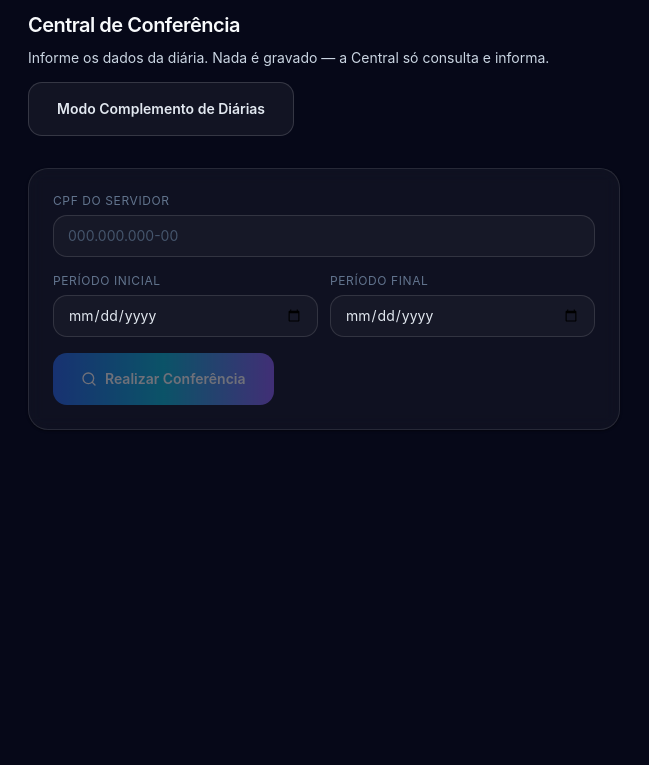
Test: Conferencia — portão da Etapa 2 › veredito REVISAR nunca revela a Etapa 2
Type "12345678901" into the field labelled "CPF do servidor" at (324, 236), box top-left (53, 215), bottom-right (595, 257)
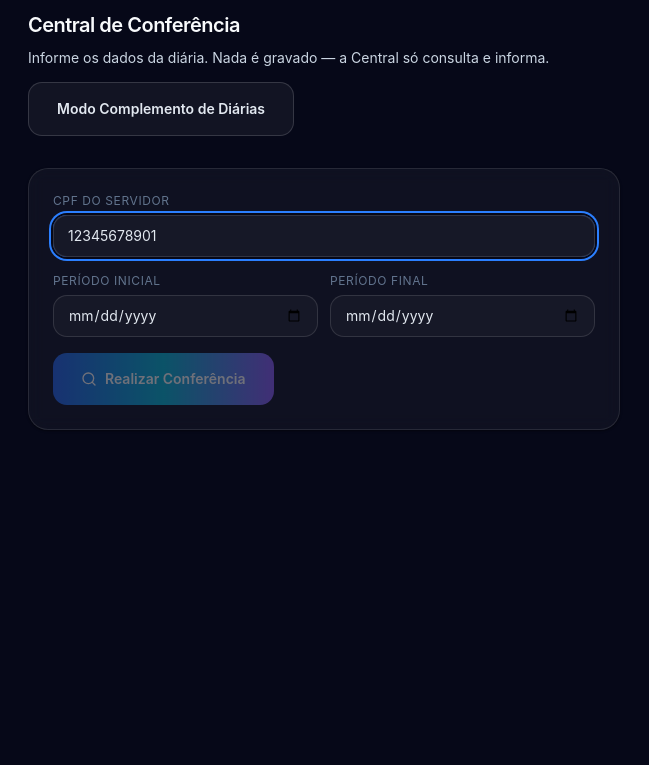
Type "2026-07-21" into the date field labelled "Período inicial" at (186, 316), box top-left (53, 295), bottom-right (318, 337)
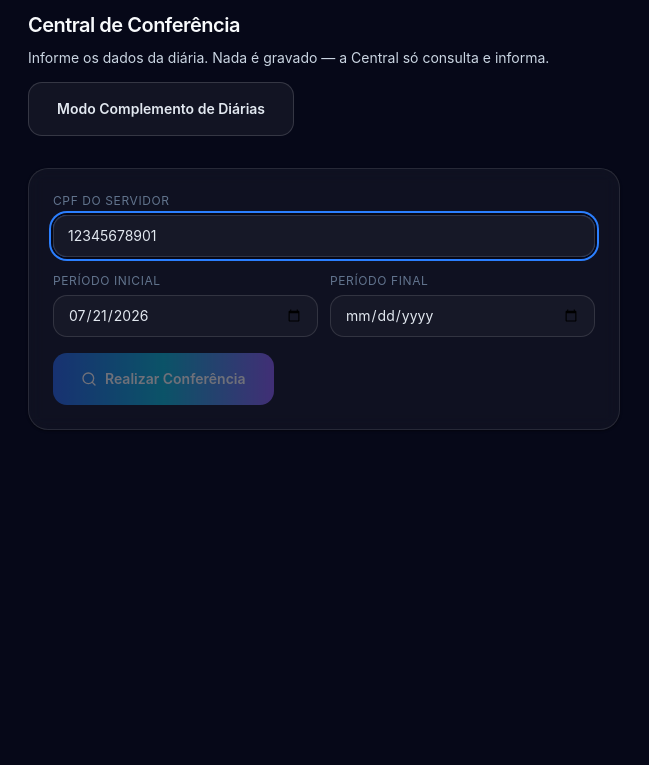
Type "2026-07-23" into the date field labelled "Período final" at (462, 316), box top-left (330, 295), bottom-right (595, 337)
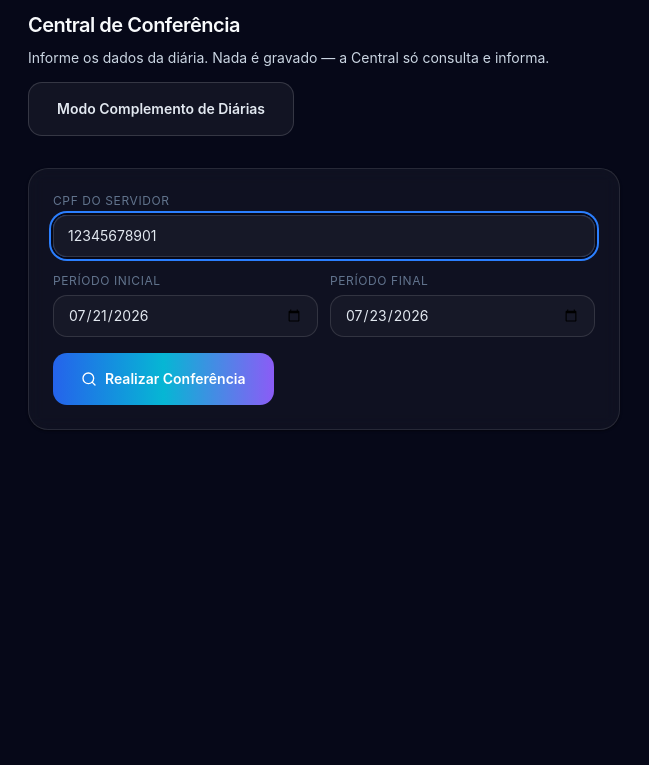
Click the button "Realizar Conferência" at (163, 379), box top-left (53, 353), bottom-right (274, 405)
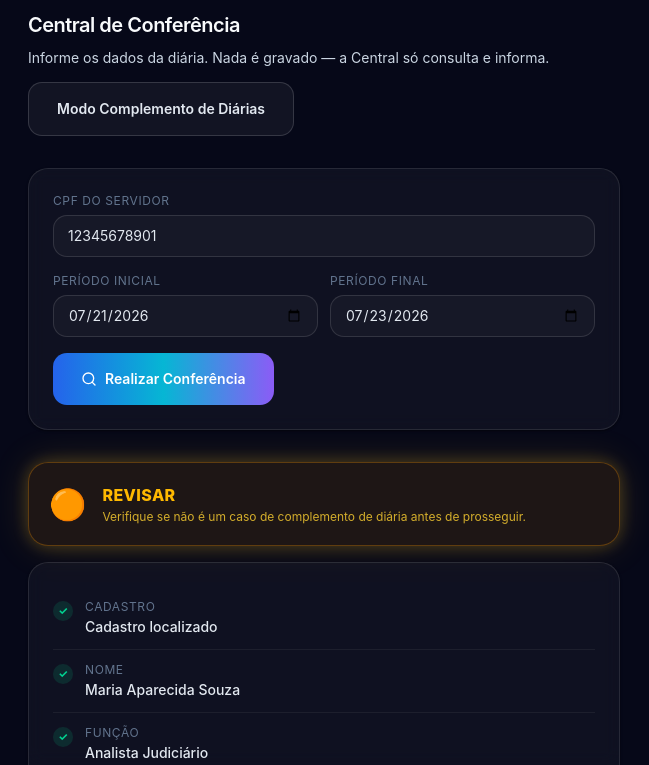
Expected: the heading "REVISAR" is shown, top-left (102, 485), bottom-right (176, 505)
